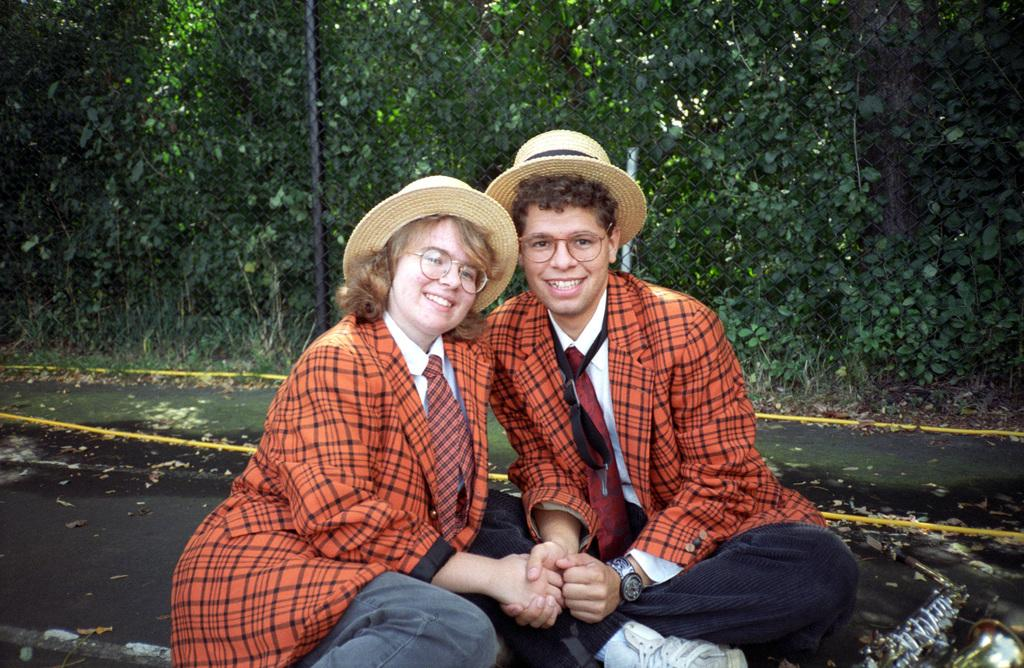Hat: (342, 173, 519, 312), (485, 128, 645, 248)
